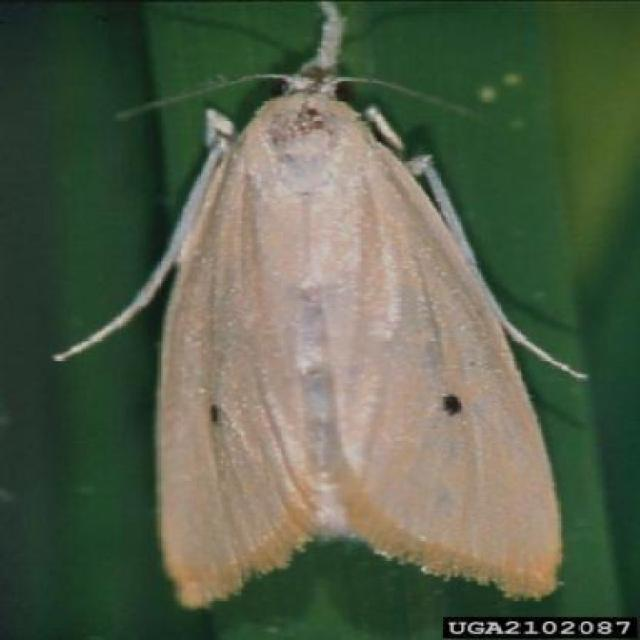stem-borer: (109, 0, 594, 611)
